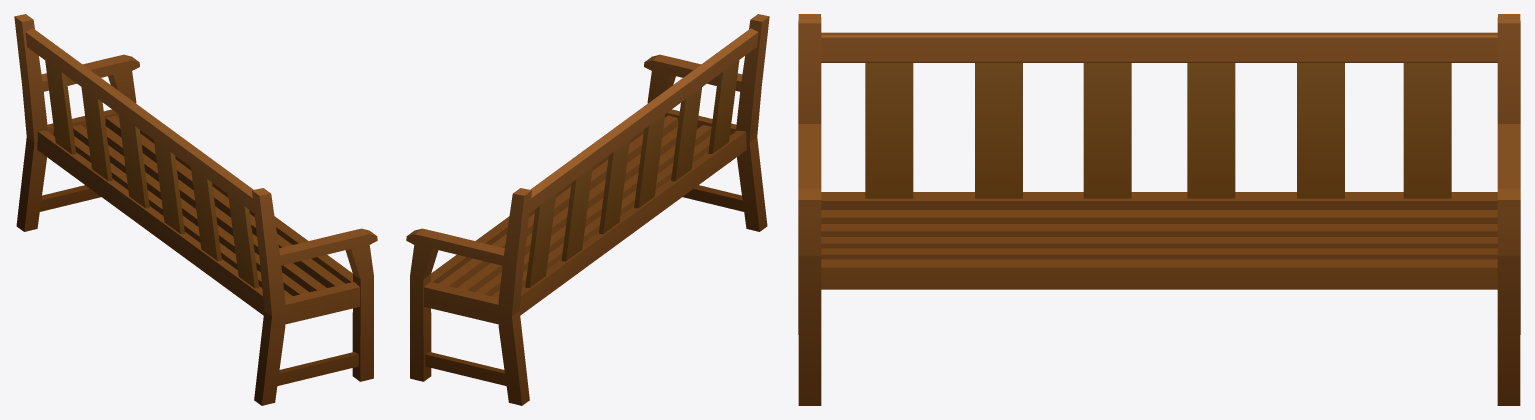
The model's file is Park_Bench.fbx.
The picture shows the model from 3 angles, left to right: view 1: azimuth 30°, elevation 25°; view 2: azimuth 150°, elevation 25°; view 3: azimuth 270°, elevation 25°; orthographic projection. The views are drawn at different scales.
Visible parts, largest first — view 1: Park_Bench; view 2: Park_Bench; view 3: Park_Bench.
Boxes of the visible parts, x1,y1,x2,y2 form: Park_Bench: (14, 14, 377, 405); Park_Bench: (406, 14, 769, 405); Park_Bench: (798, 14, 1520, 405).
Bounding box in the file's own units: 62.99 × 107 × 227.
